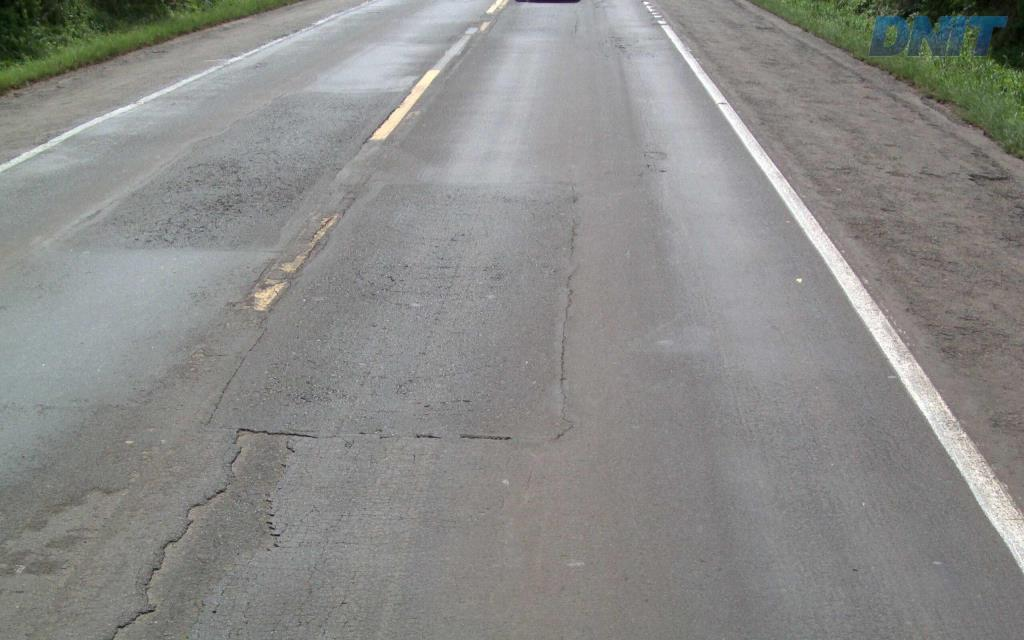pothole: (98, 422, 328, 638)
